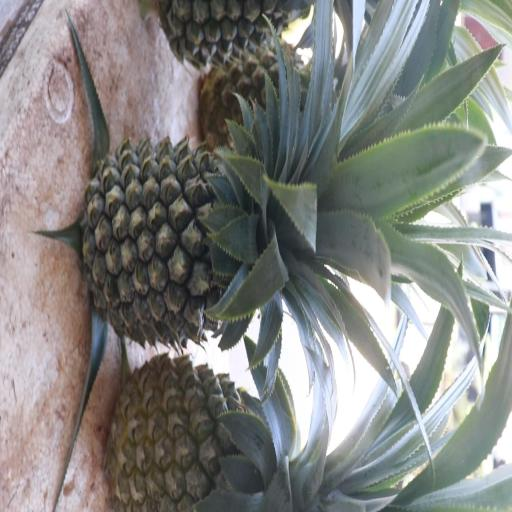------------------------------: (113, 351, 298, 512)
